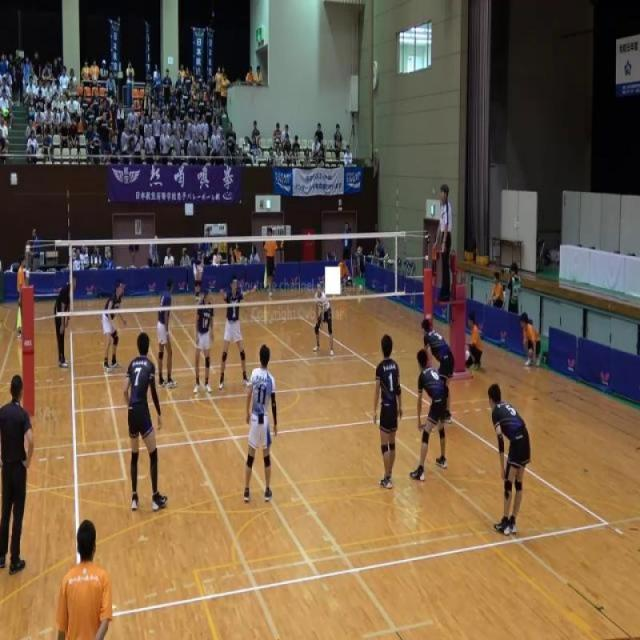volleyball: (358, 284, 363, 292), (198, 266, 202, 275)
